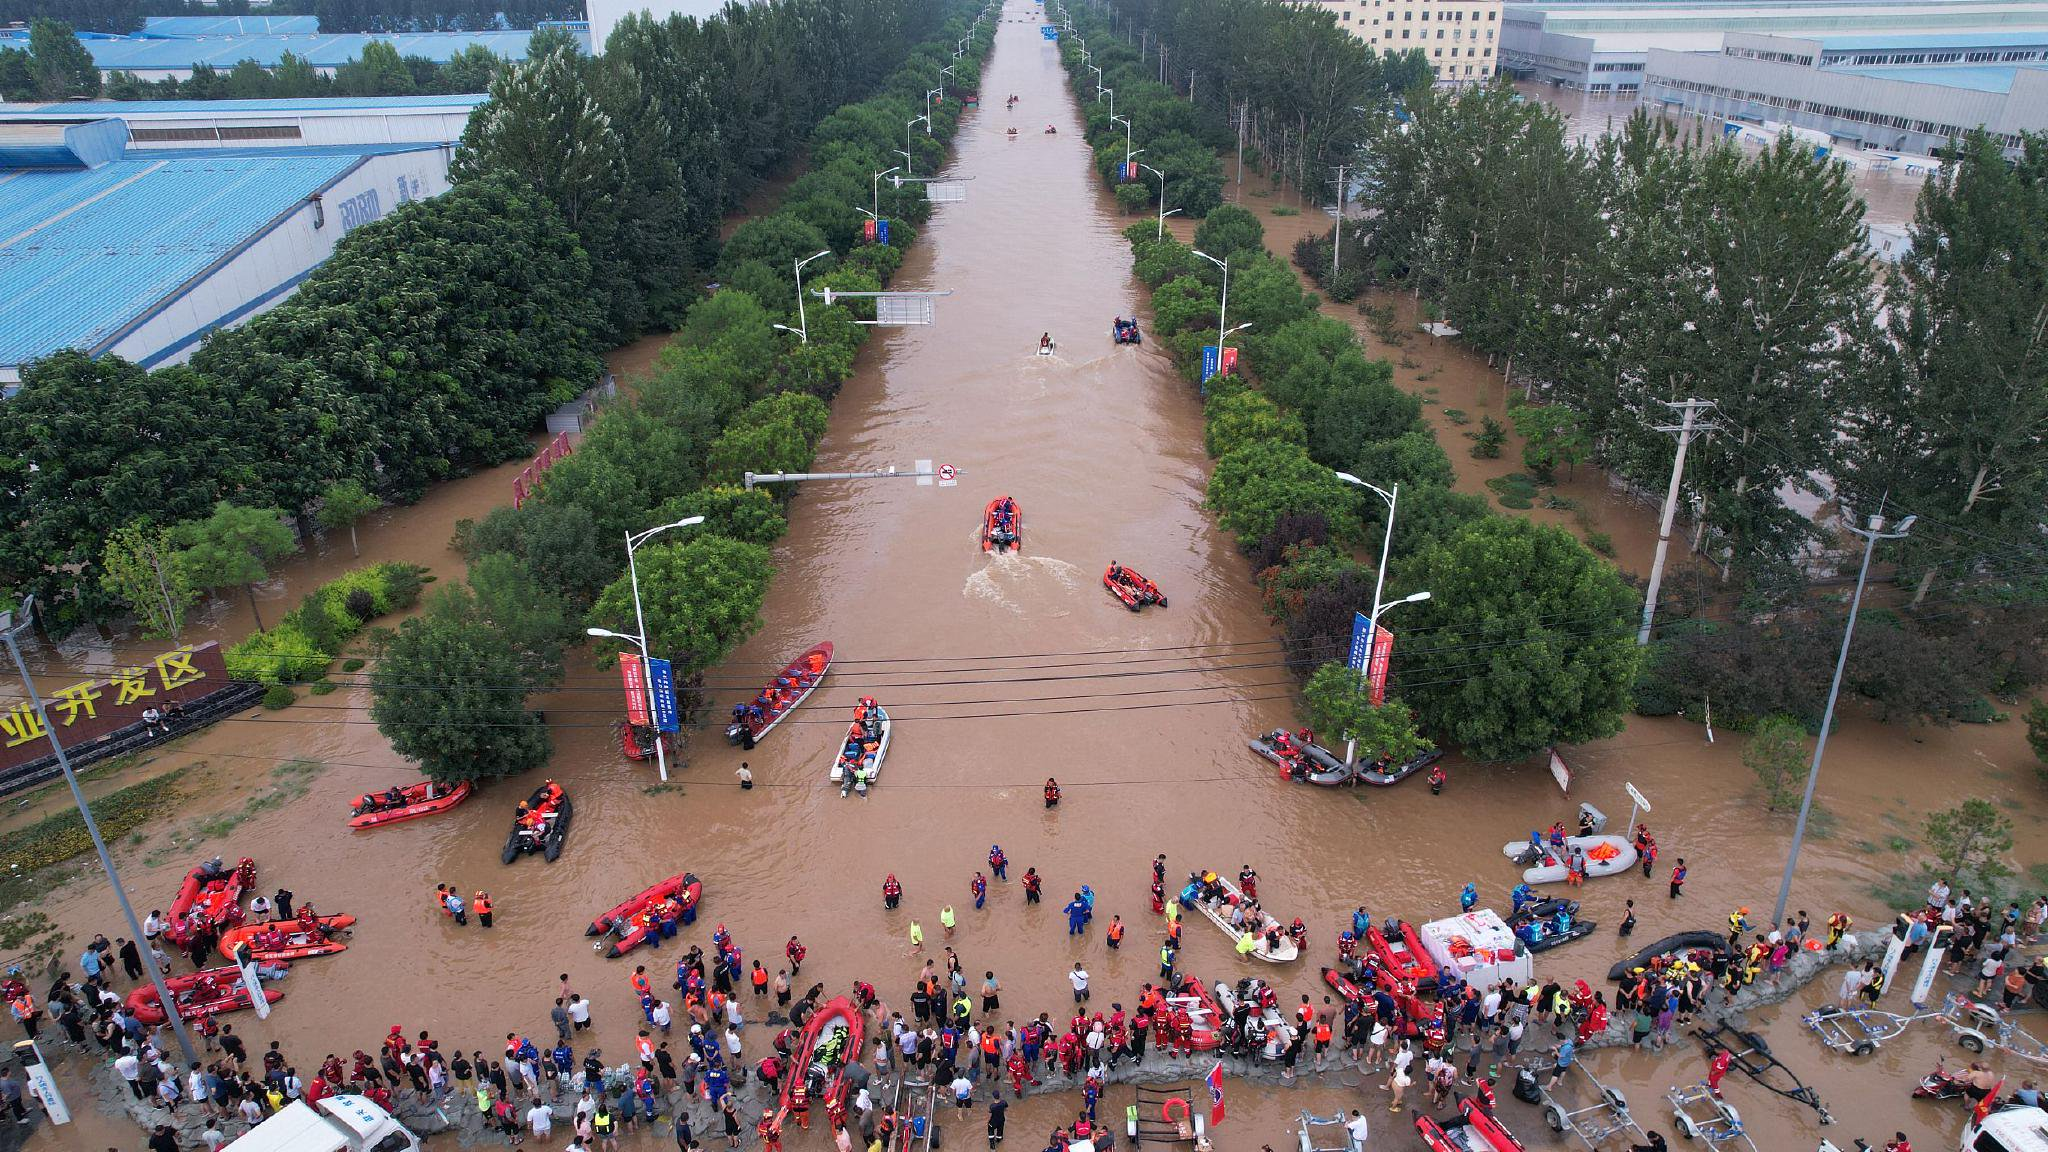puddle: (799, 141, 1293, 909)
